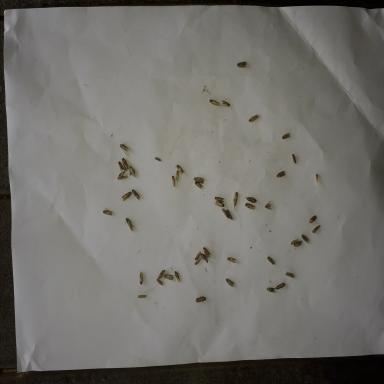pbw: (123, 216, 136, 234), (121, 187, 133, 204), (120, 155, 131, 173), (130, 187, 142, 203), (222, 206, 234, 222), (116, 168, 129, 182), (248, 111, 262, 124), (118, 142, 132, 155), (172, 268, 182, 286), (224, 276, 236, 290), (174, 162, 186, 176), (192, 178, 204, 192), (232, 190, 240, 211), (193, 174, 208, 185), (137, 268, 145, 288), (274, 279, 287, 291), (299, 232, 311, 245), (208, 97, 222, 108), (244, 194, 258, 205), (284, 268, 295, 282), (101, 207, 115, 218), (194, 294, 208, 305), (128, 165, 138, 180), (266, 284, 278, 296), (191, 249, 202, 262), (235, 60, 249, 70), (311, 222, 321, 236), (202, 246, 213, 258), (219, 98, 231, 109), (263, 199, 274, 211), (155, 276, 166, 288), (243, 202, 256, 212), (157, 267, 167, 280), (289, 234, 299, 247), (168, 174, 176, 190), (173, 169, 181, 185), (212, 200, 226, 209), (163, 273, 174, 284), (266, 255, 277, 266), (214, 194, 226, 204), (275, 169, 287, 179), (308, 213, 318, 225), (314, 171, 321, 188), (116, 160, 124, 174), (281, 130, 291, 141), (226, 256, 238, 265), (290, 152, 298, 165), (136, 292, 148, 300), (295, 240, 302, 252), (153, 155, 162, 164), (194, 256, 202, 266)
